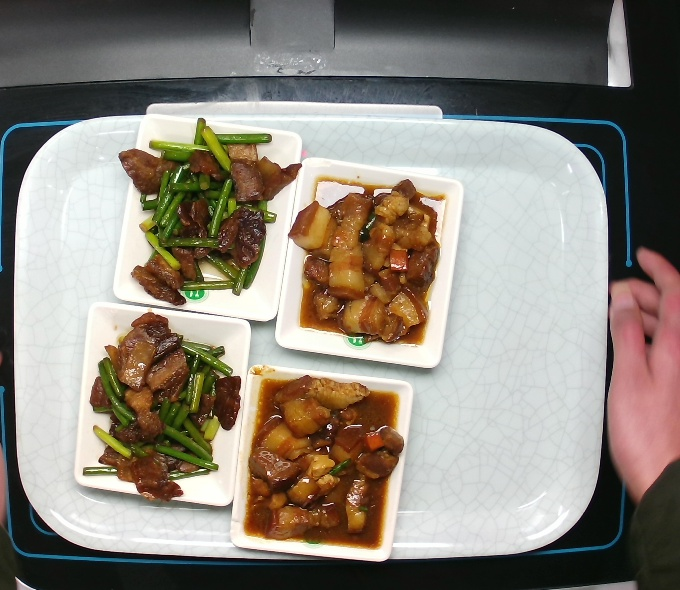wcq-HongShaoRou: (244, 372, 409, 543), (283, 176, 446, 349)
wcq-SuanMiaoChaoRou: (116, 114, 305, 310), (78, 309, 245, 504)
